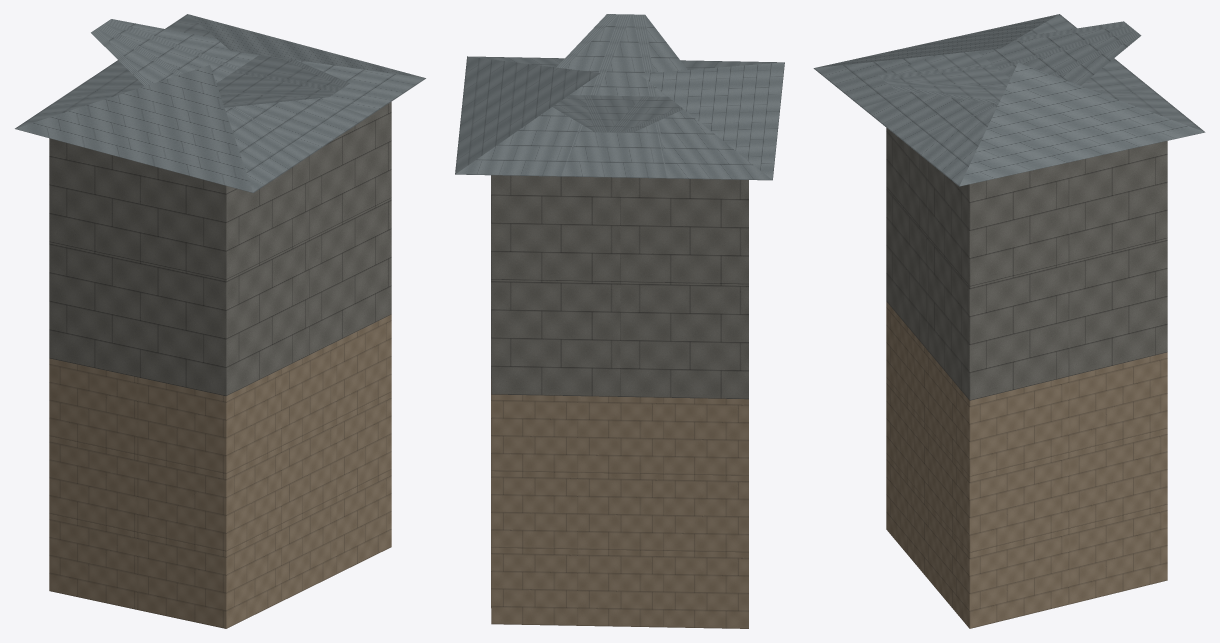
The model's file is bld_c42_-10_495.gltf.
3 renders of one model, left to right at view 1: azimuth 30°, elevation 25°; view 2: azimuth 150°, elevation 25°; view 3: azimuth 270°, elevation 25°, orthographic.
Visible parts, largest first — view 1: bld_c42_-10_495; view 2: bld_c42_-10_495; view 3: bld_c42_-10_495.
Part boxes in pixels (x1,y1,x2,y2): bld_c42_-10_495: [15, 14, 425, 628]; bld_c42_-10_495: [455, 14, 784, 628]; bld_c42_-10_495: [813, 14, 1205, 628].
Bounding box in the file's own units: 8.28 × 11.2 × 7.95.
Materials: 3 (3 with a texture image).
